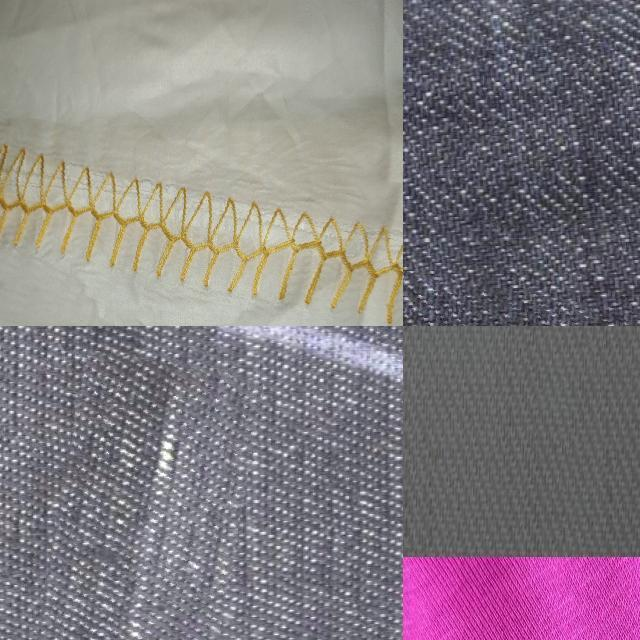Thread_other: (403, 450, 439, 556)
Thread_out: (0, 117, 403, 326)
stains: (36, 354, 248, 640), (403, 253, 640, 326)
